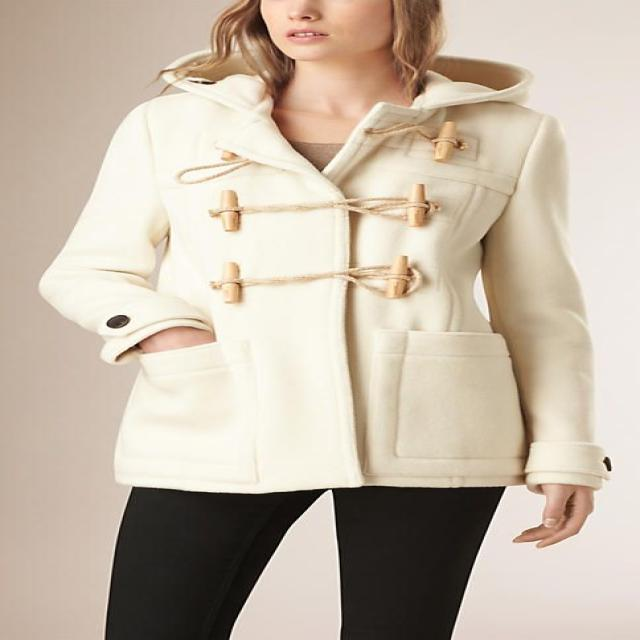coat: (34, 49, 618, 494)
trousers: (102, 473, 508, 640)
